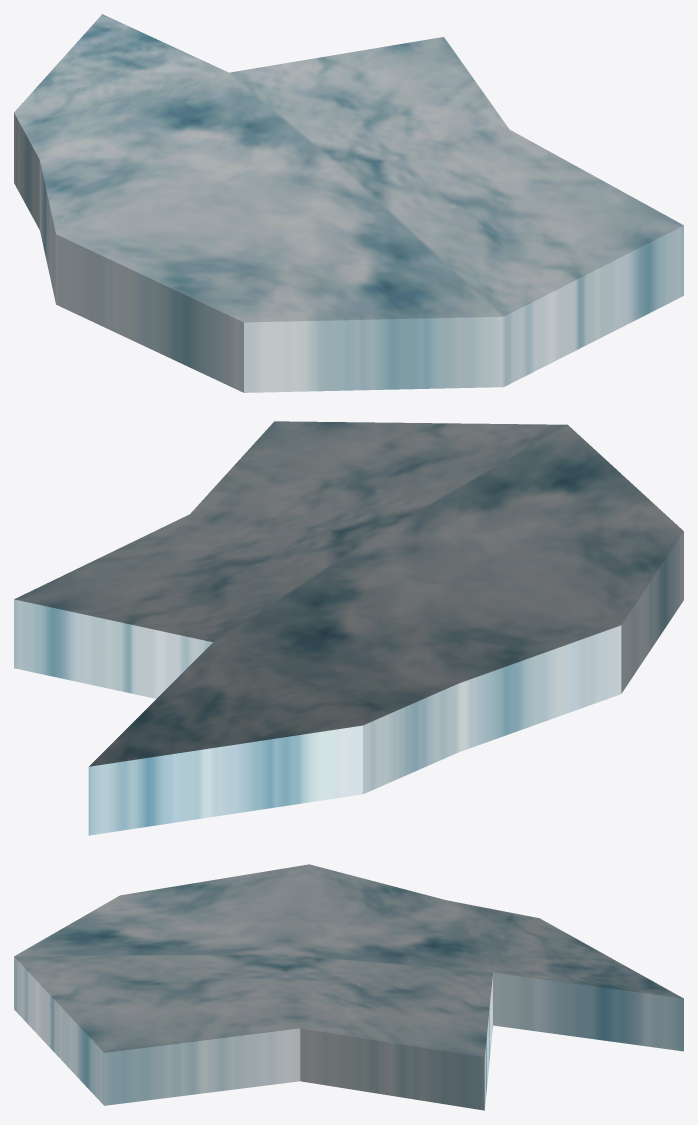
Rendered from cap_frostshield_chunk2.glb.
The picture shows the model from 3 angles, top to bottom: view 1: azimuth 30°, elevation 25°; view 2: azimuth 150°, elevation 25°; view 3: azimuth 270°, elevation 25°; orthographic projection. The views are drawn at different scales.
Visible parts, largest first — view 1: cap_frostshield_chunk2_0; view 2: cap_frostshield_chunk2_0; view 3: cap_frostshield_chunk2_0.
Boxes of the visible parts, x1,y1,x2,y2 form: cap_frostshield_chunk2_0: (14,14,683,392); cap_frostshield_chunk2_0: (14,421,683,835); cap_frostshield_chunk2_0: (14,864,683,1110).
Size of the model in its own units: 14.04 by 3.11 by 21.48.
Materials: 1 (1 with a texture image).
